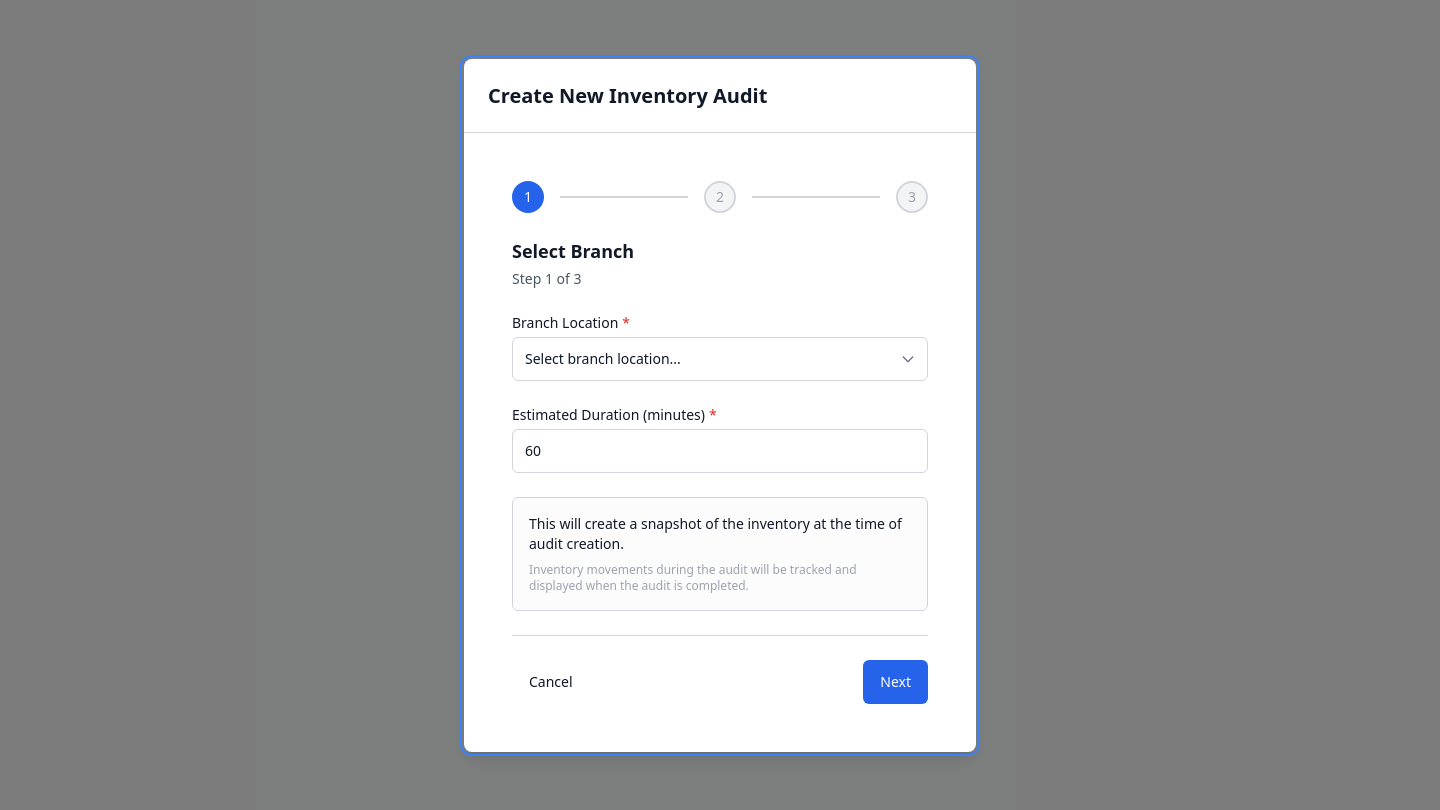
Count Components › NewCountWizard › should proceed to scope selection after valid branch
# Select a branch
Step 1. Select "Main Restaurant (restaurant)" in the dropdown → (720, 358), box [512,336,928,380]
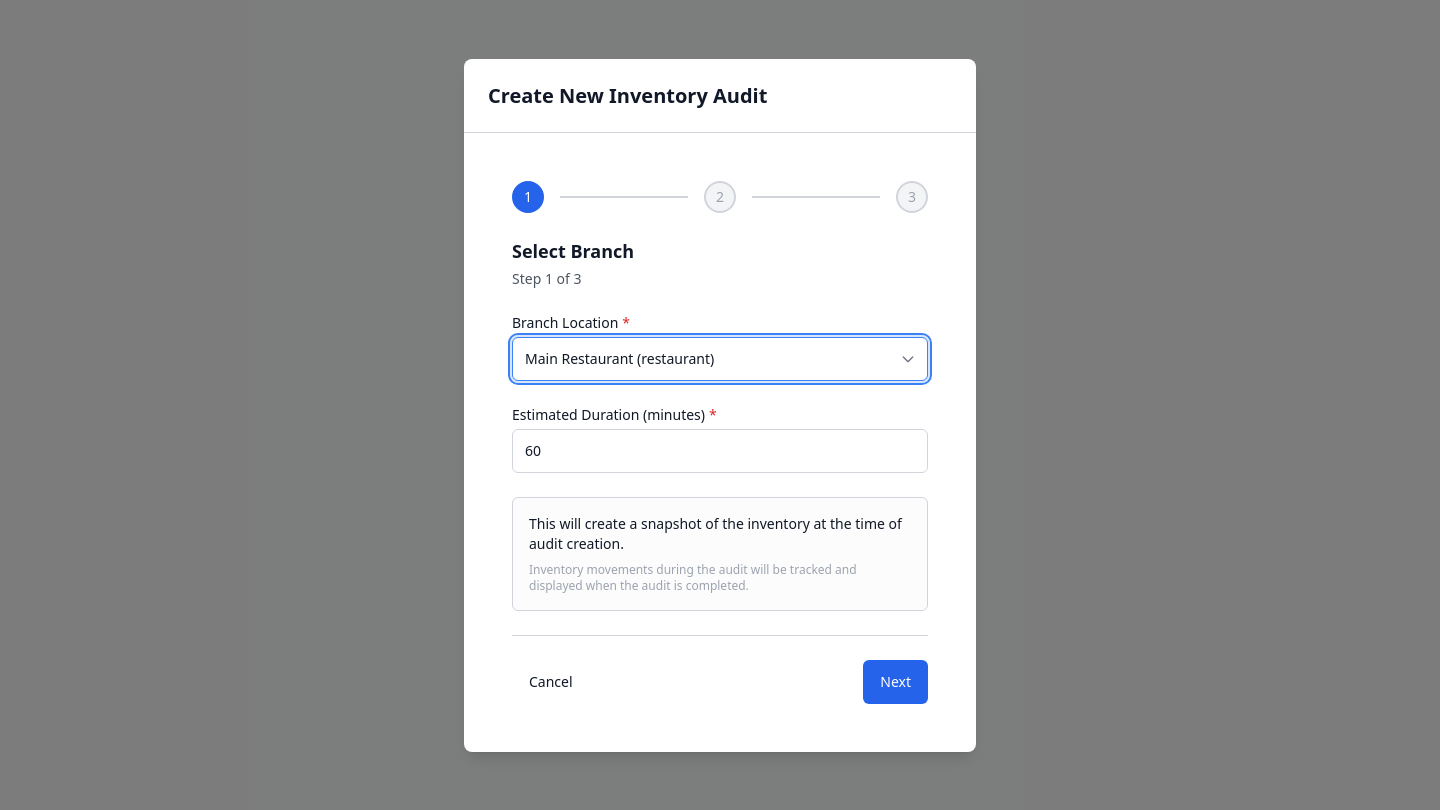
# Proceed to next step
Step 2. Click the button "Next" → (896, 682), box [863,660,928,704]
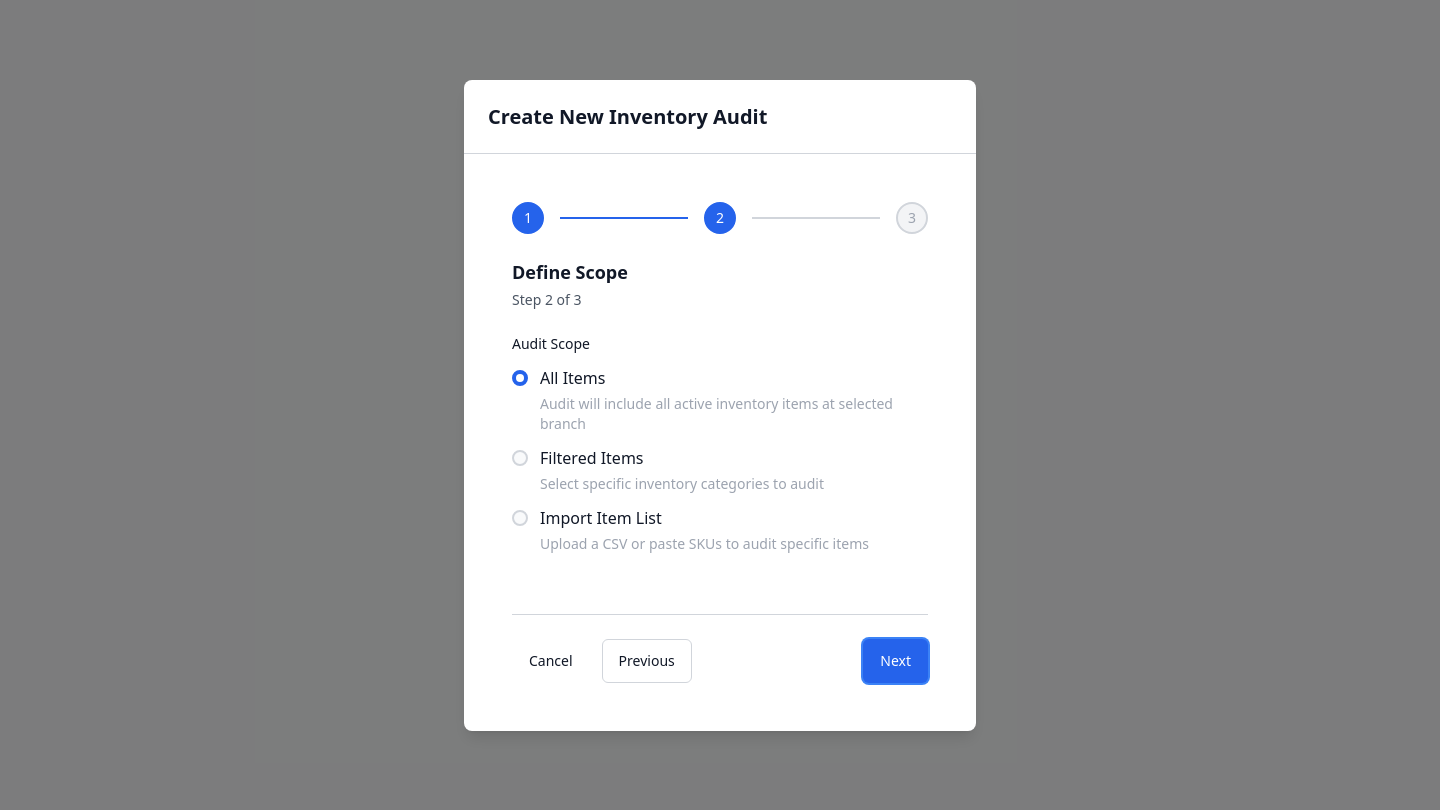
Check: the heading "Define Scope" is shown, box [512,260,628,284]
Check: the text "Step 2 of 3" is shown, box [512,290,582,308]
